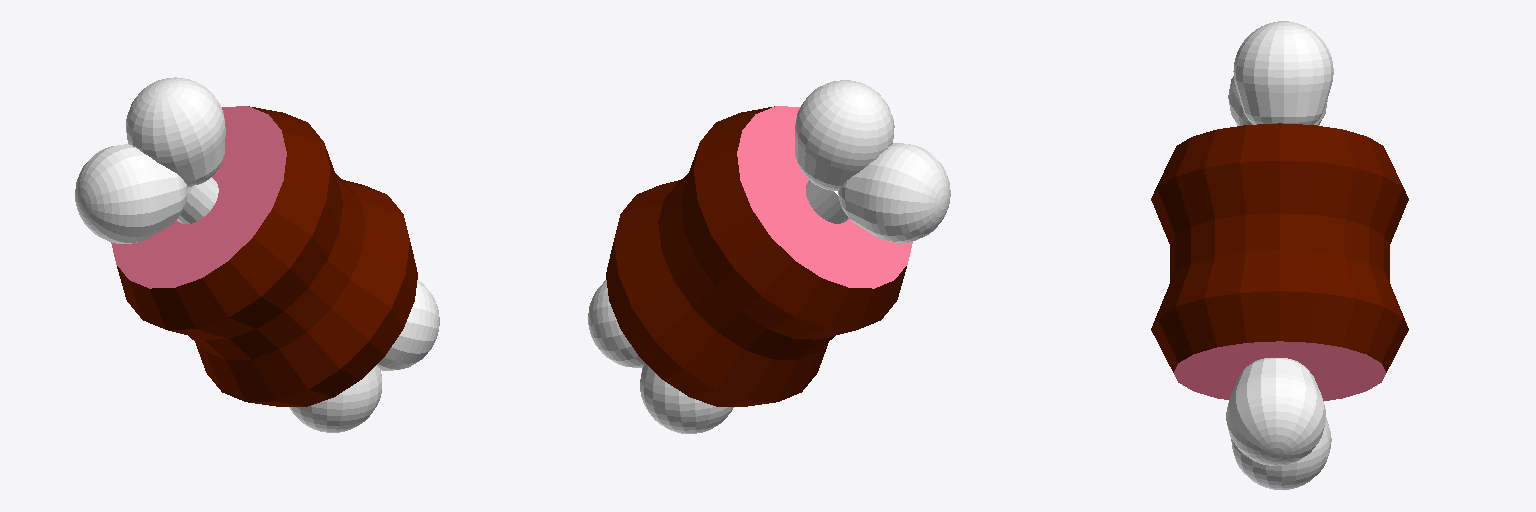
3 views of the same model, side by side, from view 1: azimuth 30°, elevation 25°; view 2: azimuth 150°, elevation 25°; view 3: azimuth 270°, elevation 25° (orthographic).
Parts seen in each view (by area): view 1: pCylinder4; view 2: pCylinder4; view 3: pCylinder4.
Part boxes in pixels (left/top/right/bottom): pCylinder4: left=75, top=77, right=439, bottom=432; pCylinder4: left=588, top=80, right=950, bottom=433; pCylinder4: left=1151, top=21, right=1408, bottom=489.
Bounding box in the file's own units: 9.13 × 9.55 × 5.83.
Materials: 1 (1 with a texture image).